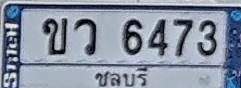3: (197, 19, 217, 56)
4: (148, 18, 168, 56)
6: (123, 19, 142, 55)
7: (173, 18, 193, 56)
A02: (42, 18, 68, 55)
A37: (74, 18, 96, 55)
CBI: (91, 65, 150, 88)
